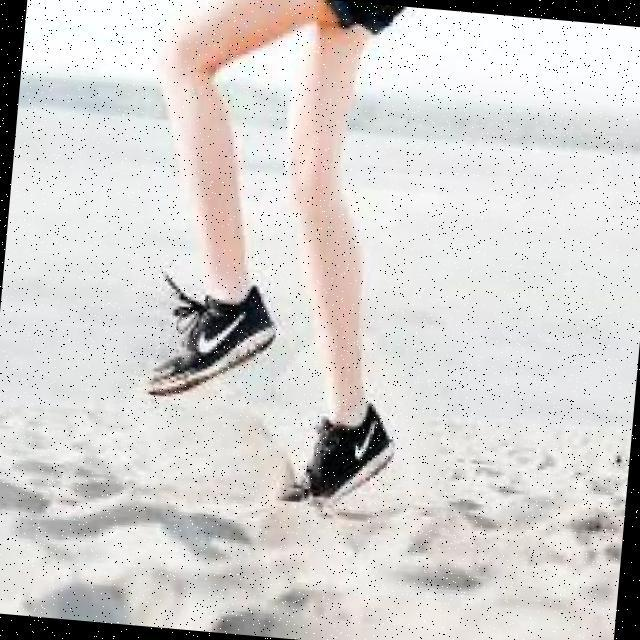Nike: (201, 305, 251, 357), (354, 412, 383, 460)
